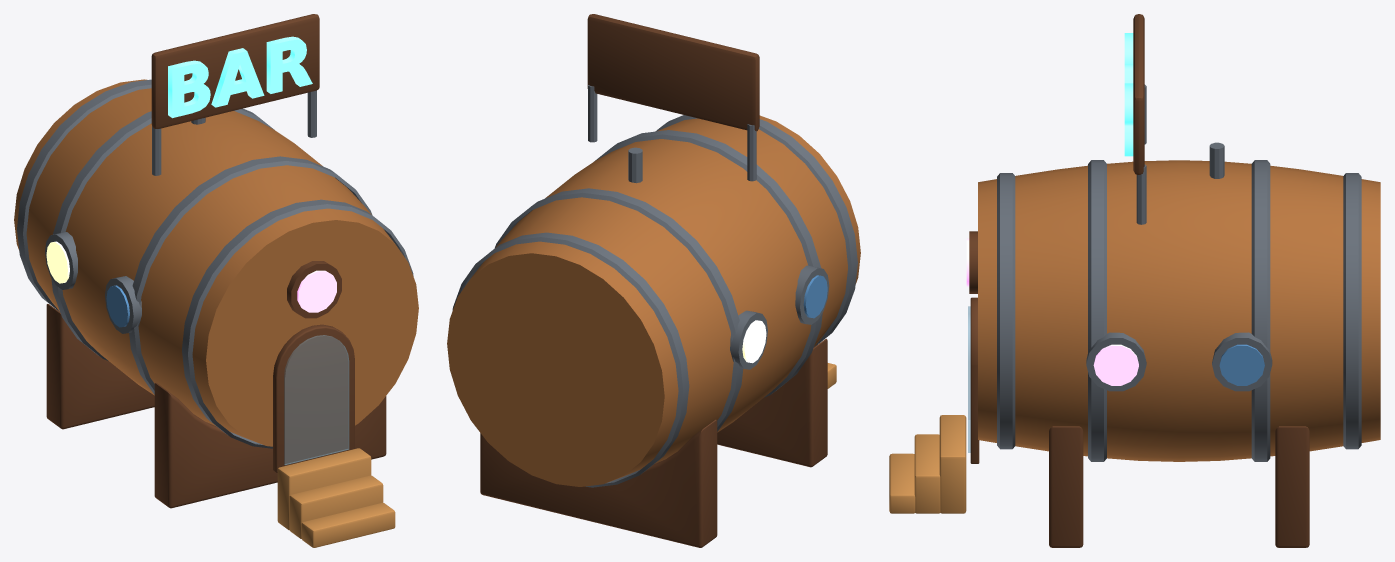
Rendered from bar_barril.glb.
3 renders of one model, left to right at view 1: azimuth 30°, elevation 25°; view 2: azimuth 150°, elevation 25°; view 3: azimuth 270°, elevation 25°, orthographic. The views are drawn at different scales.
Visible parts, largest first — view 1: bar_barril; view 2: bar_barril; view 3: bar_barril.
Part boxes in pixels (<box>): bar_barril: <box>14,14,418,547</box>; bar_barril: <box>447,14,860,547</box>; bar_barril: <box>889,14,1380,547</box>.
Size of the model in its own units: 4.98 by 7.7 by 7.81.
6 materials, 1 textured.
